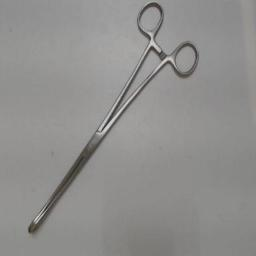Sponge Forceps: (26, 0, 202, 238)
